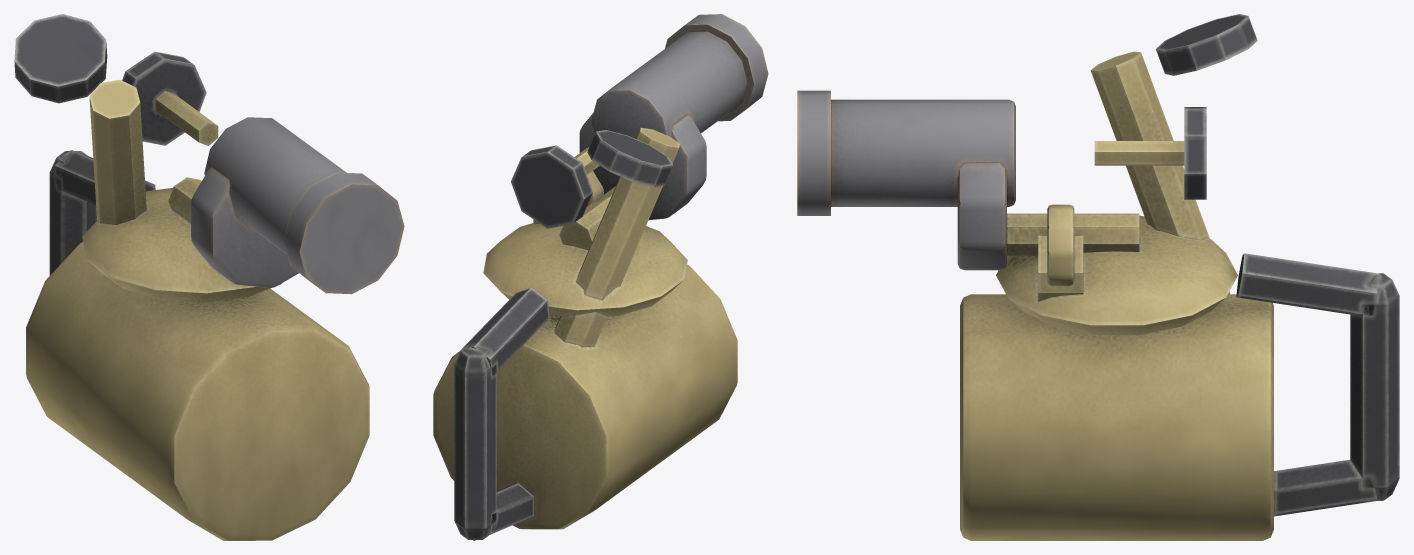
Rendered from blowtorch.glb.
3 renders of one model, left to right at view 1: azimuth 30°, elevation 25°; view 2: azimuth 150°, elevation 25°; view 3: azimuth 270°, elevation 25°, orthographic. The views are drawn at different scales.
Visible parts, largest first — view 1: blowtorch; view 2: blowtorch; view 3: blowtorch.
Part boxes in pixels (x1,y1,x2,y2): blowtorch: (14, 14, 404, 540); blowtorch: (433, 14, 768, 540); blowtorch: (797, 14, 1399, 540).
Bounding box in the file's own units: 0.1259 × 0.2297 × 0.2685.
Materials: 1 (1 with a texture image).
